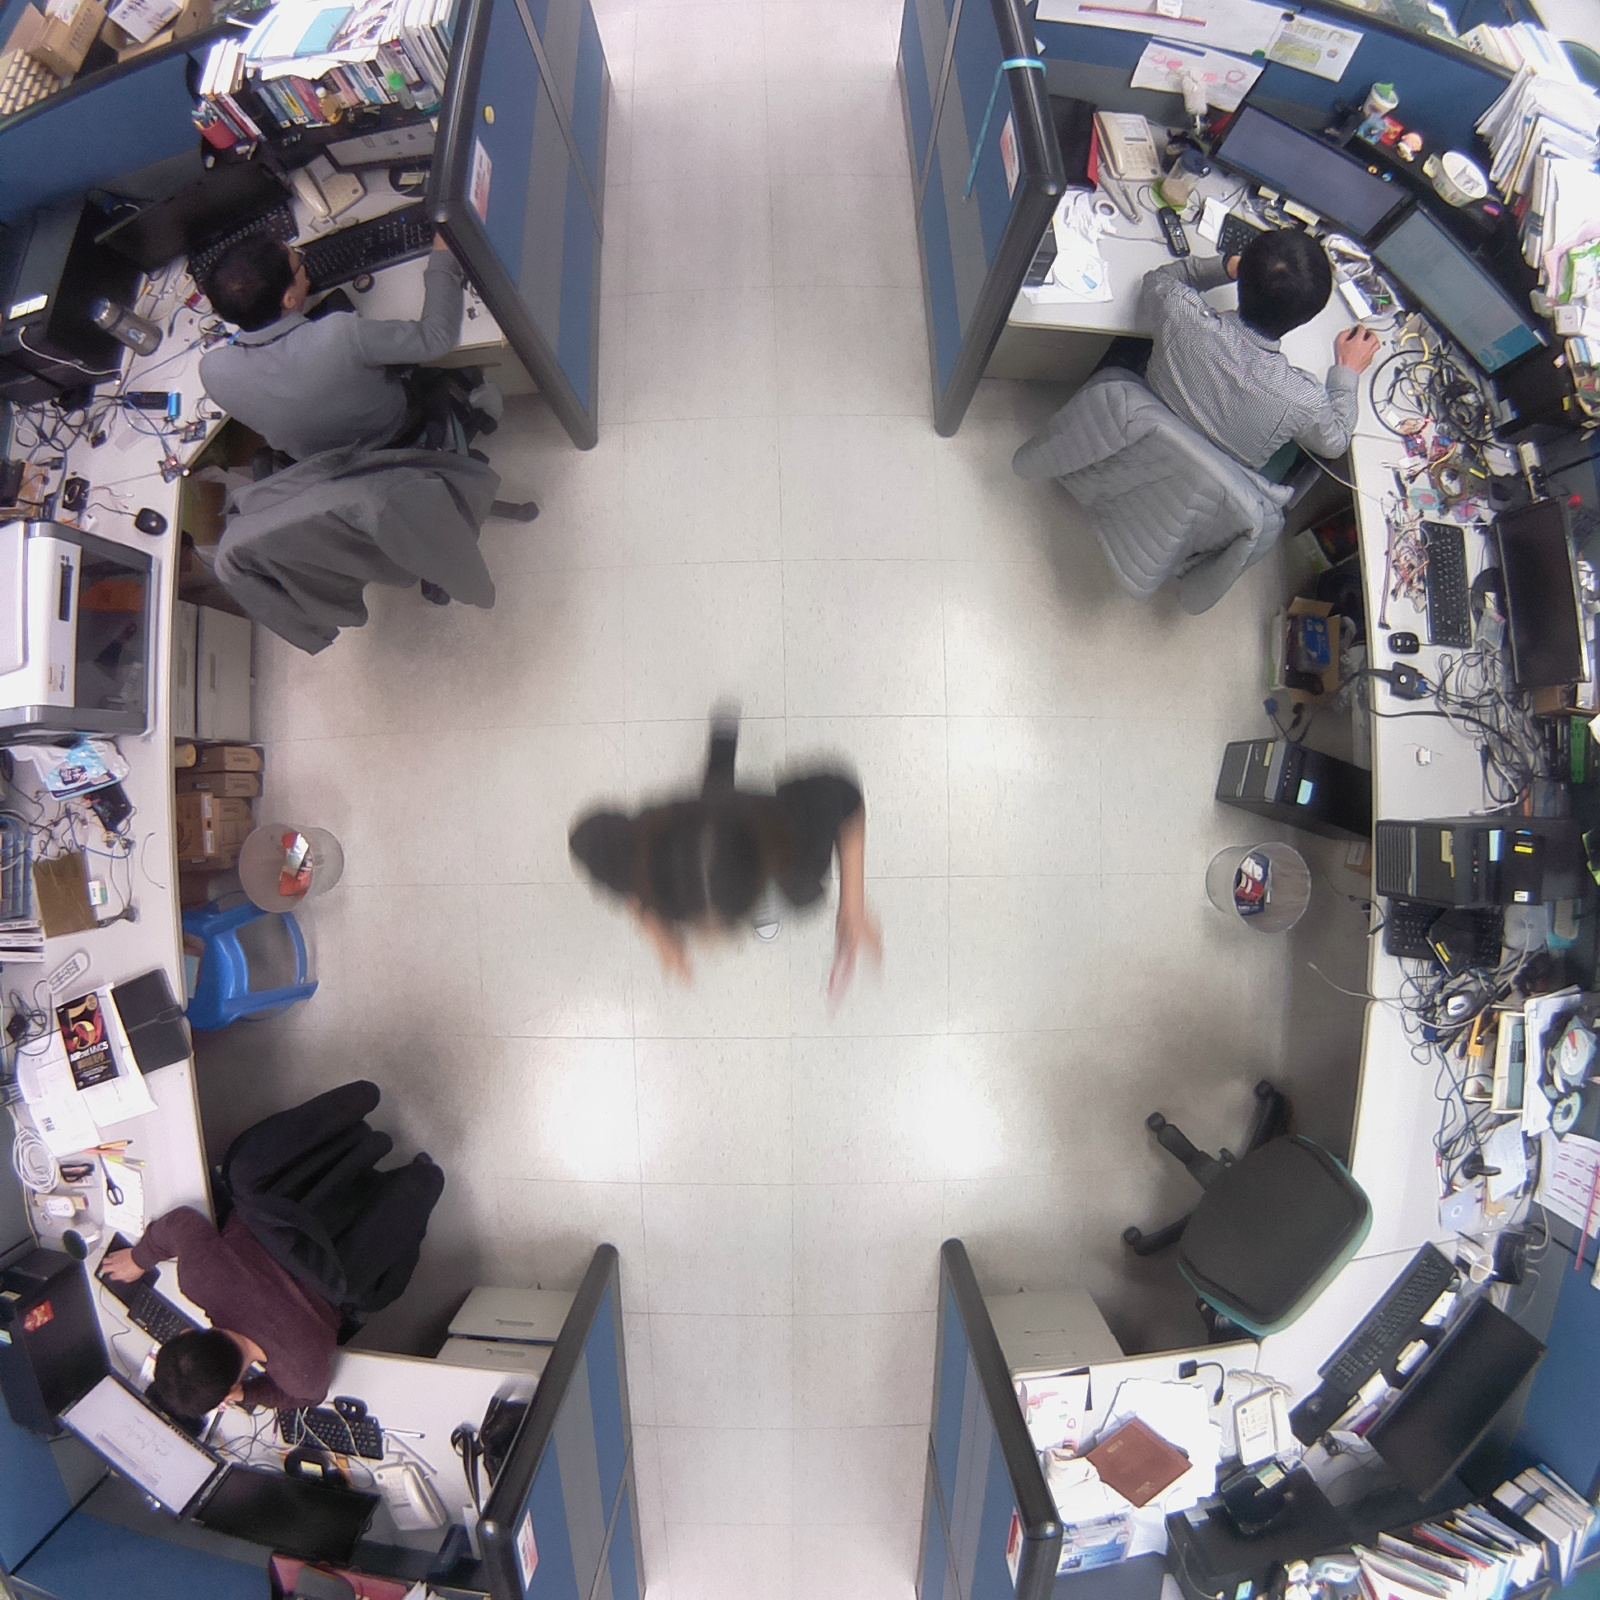chair: (1089, 1061, 1382, 1361)
sitting: (166, 207, 567, 670), (996, 210, 1402, 639), (78, 1067, 467, 1448)
walking: (522, 690, 925, 1029)
